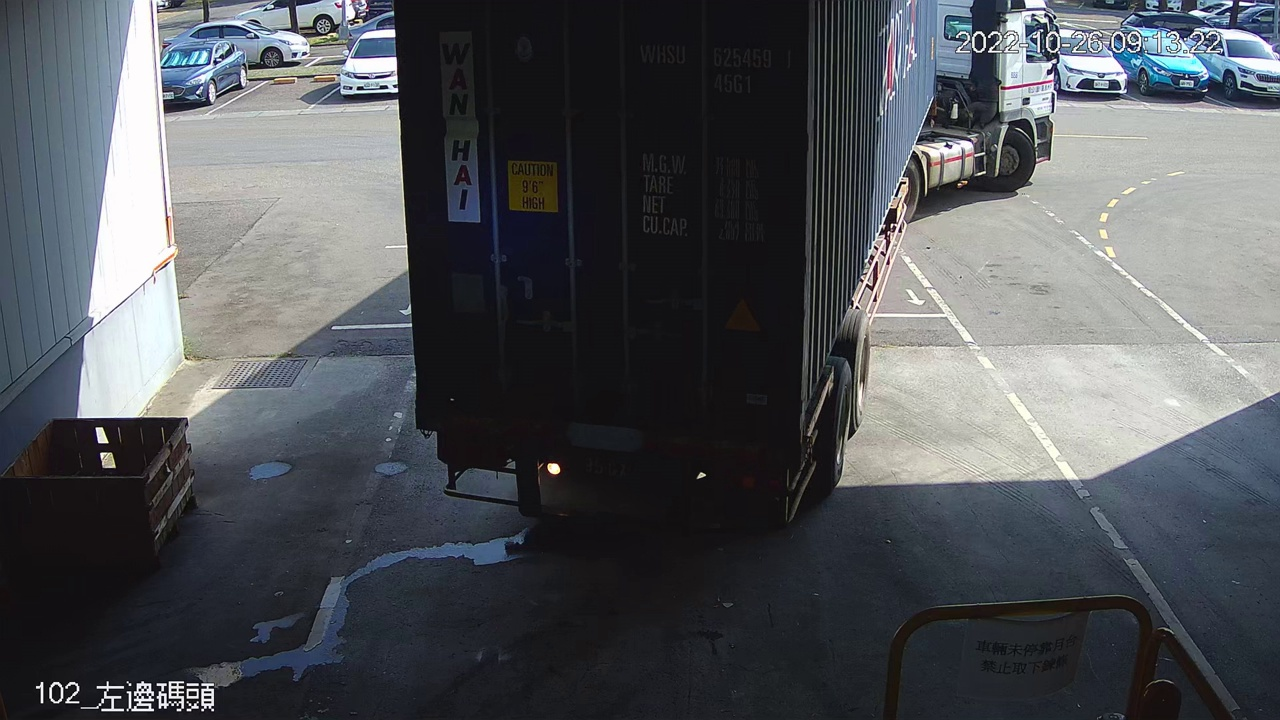container: (629, 31, 804, 103)
